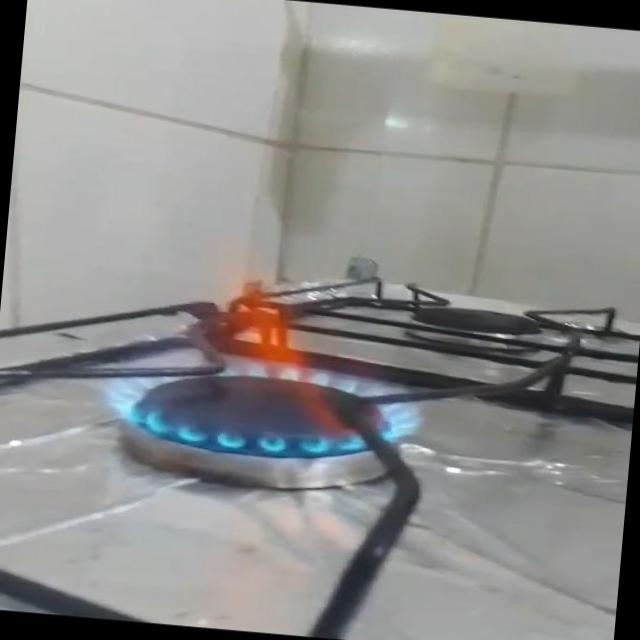Fire: (86, 248, 442, 473)
